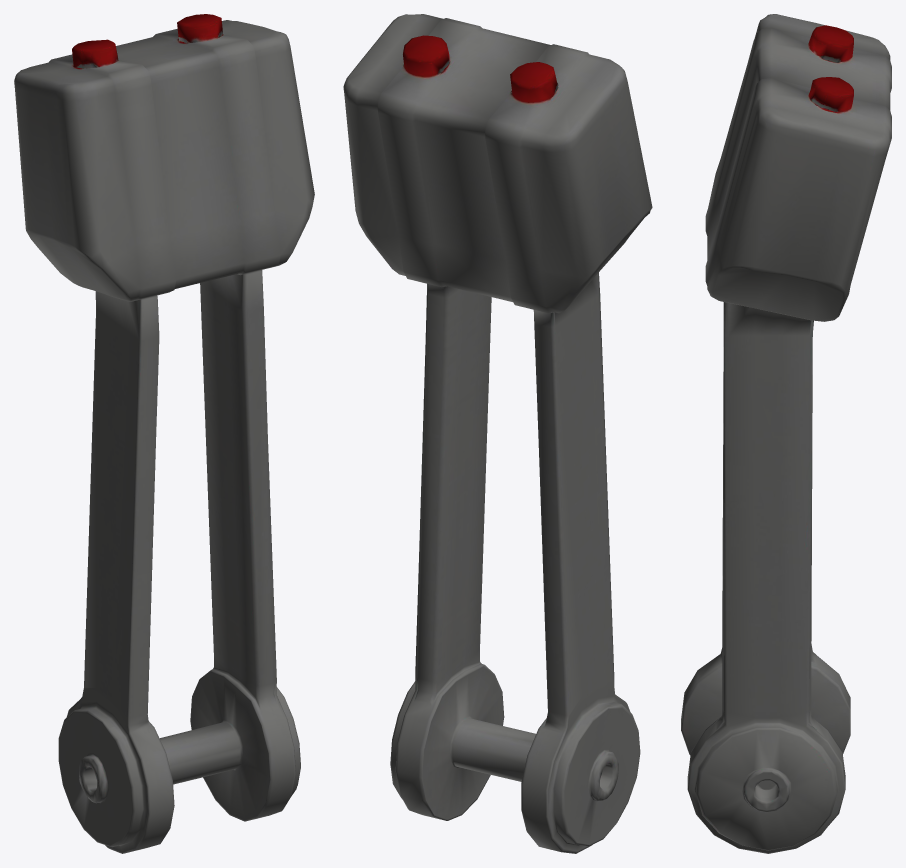
The model's file is throttle_v7_remesh.glb.
The picture shows the model from 3 angles, left to right: view 1: azimuth 30°, elevation 25°; view 2: azimuth 150°, elevation 25°; view 3: azimuth 270°, elevation 25°; orthographic projection. The views are drawn at different scales.
Visible parts, largest first — view 1: tripo_node_7c004ae5-b04e-4bc1-a36c-37ea5; view 2: tripo_node_7c004ae5-b04e-4bc1-a36c-37ea5; view 3: tripo_node_7c004ae5-b04e-4bc1-a36c-37ea5.
Part boxes in pixels (x1,y1,x2,y2): tripo_node_7c004ae5-b04e-4bc1-a36c-37ea5: (14, 14, 314, 853); tripo_node_7c004ae5-b04e-4bc1-a36c-37ea5: (343, 14, 652, 853); tripo_node_7c004ae5-b04e-4bc1-a36c-37ea5: (681, 14, 891, 853).
Bounding box in the file's own units: 0.3209 × 1 × 0.2505.
Materials: 1 (1 with a texture image).
